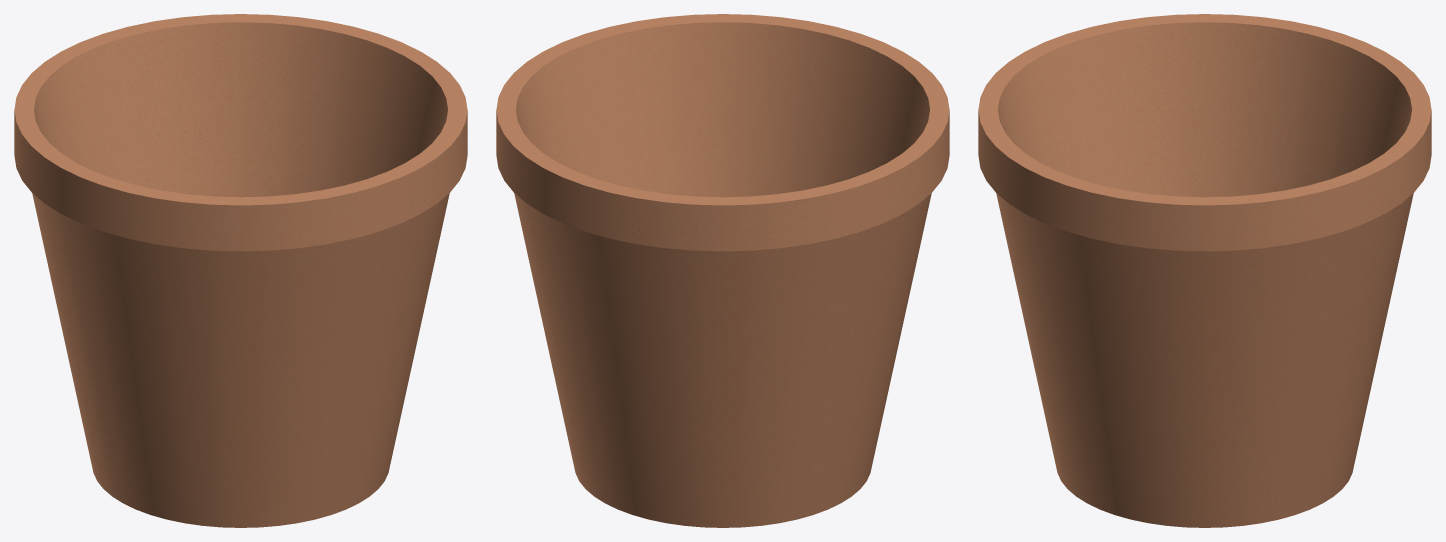
The model's file is pot_02_origin.dae.
The picture shows the model from 3 angles, left to right: view 1: azimuth 30°, elevation 25°; view 2: azimuth 150°, elevation 25°; view 3: azimuth 270°, elevation 25°; orthographic projection.
Parts seen in each view (by area): view 1: Pot (×2); view 2: Pot (×2); view 3: Pot (×2).
Boxes of the visible parts, box(x1,y1,x2,y2) form: Pot (×2): box(14, 14, 467, 527); Pot (×2): box(496, 14, 949, 527); Pot (×2): box(978, 14, 1431, 527).
Size of the model in its own units: 3.94 by 3.94 by 3.41.
Materials: 1 (1 with a texture image).
